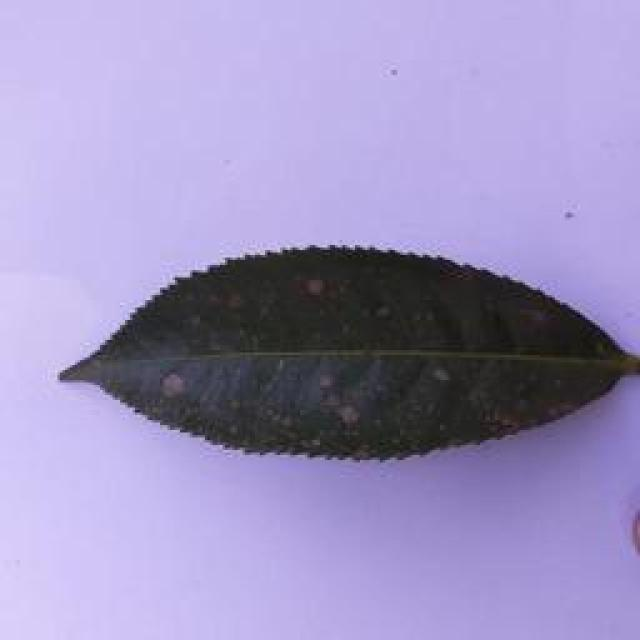Algal Leaf Spot: (64, 243, 639, 465)
